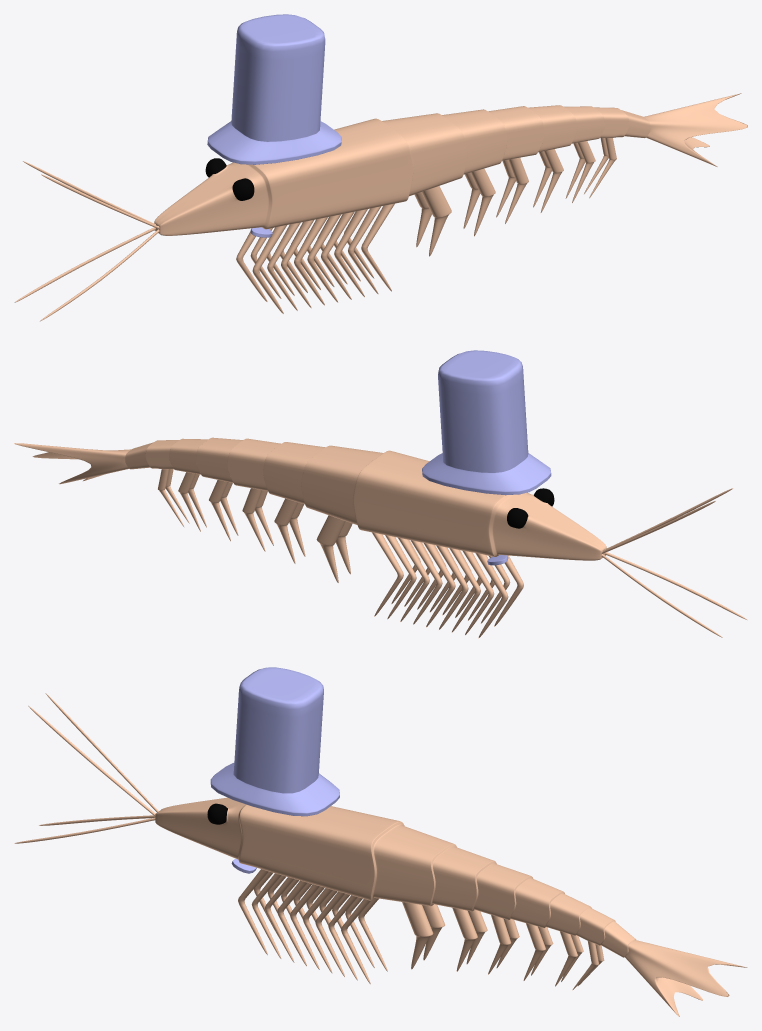
File: Shrimp_NPC_NEW1.fbx
The picture shows the model from 3 angles, top to bottom: view 1: azimuth 30°, elevation 25°; view 2: azimuth 150°, elevation 25°; view 3: azimuth 330°, elevation 25°; orthographic projection. The views are drawn at different scales.
Parts seen in each view (by area): view 1: polySurface6, polySurface7; view 2: polySurface6, polySurface7; view 3: polySurface6, polySurface7.
Boxes of the visible parts, left/top/right/bottom form: polySurface6: left=14, top=93, right=747, bottom=321; polySurface7: left=207, top=14, right=341, bottom=164; polySurface6: left=14, top=437, right=746, bottom=638; polySurface7: left=422, top=350, right=551, bottom=495; polySurface6: left=14, top=693, right=747, bottom=1016; polySurface7: left=210, top=667, right=339, bottom=816.
Bounding box in the file's own units: 24.36 × 8.98 × 2.68.
